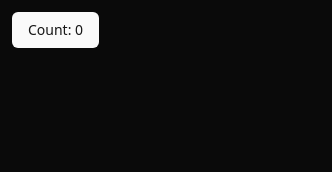
example component patterns › updates UI after a user interaction
The image size is (332, 172).
Click the button "Count: 0". click: [56, 30]
box: [12,12,99,48]
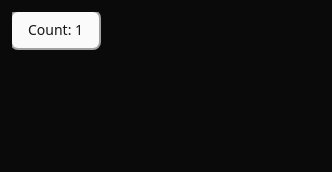
Now the button "Count: 1" is shown, box [12,12,99,48]
